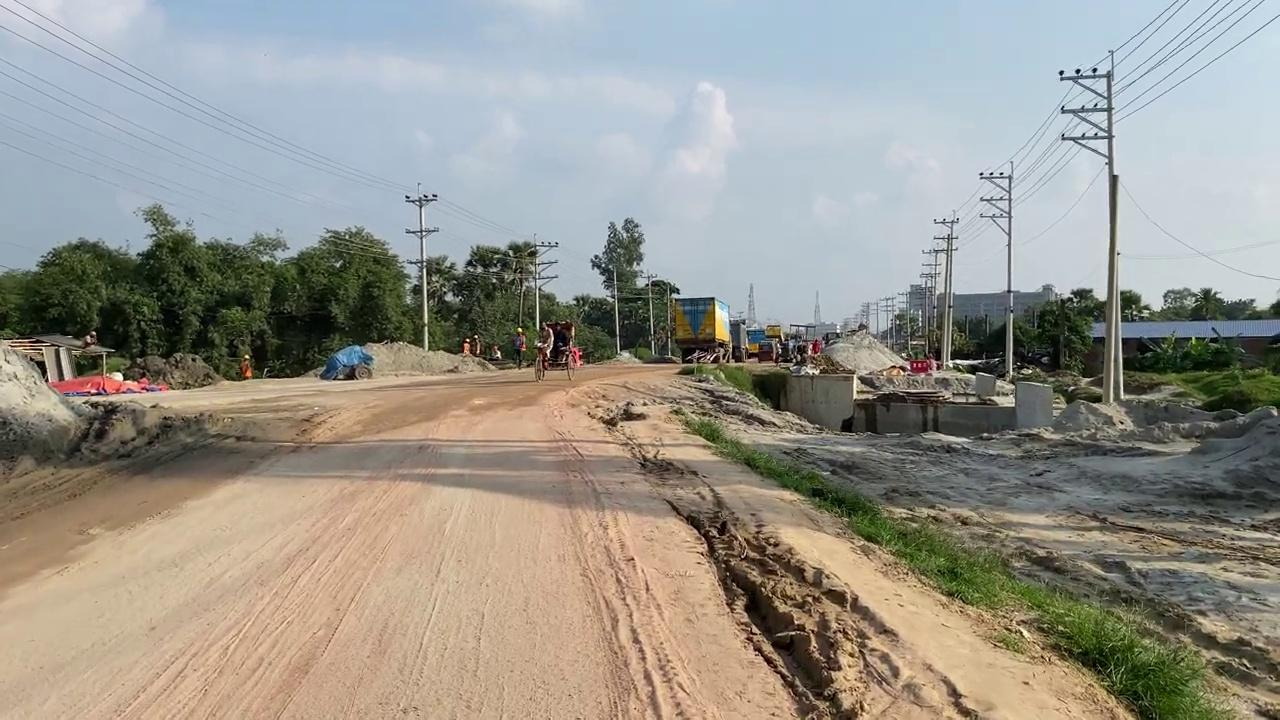Garbage: (318, 344, 374, 380)
Muddy road: (2, 358, 1276, 718)
Obstacle: (2, 332, 115, 384), (778, 370, 856, 430)
Pole: (1057, 49, 1122, 403), (932, 213, 959, 368), (611, 265, 620, 355)
Rickshaw: (560, 372, 1140, 718)
Traffic-sign: (589, 216, 645, 355)
Tree: (669, 295, 731, 363), (744, 324, 796, 363), (745, 327, 766, 358)
